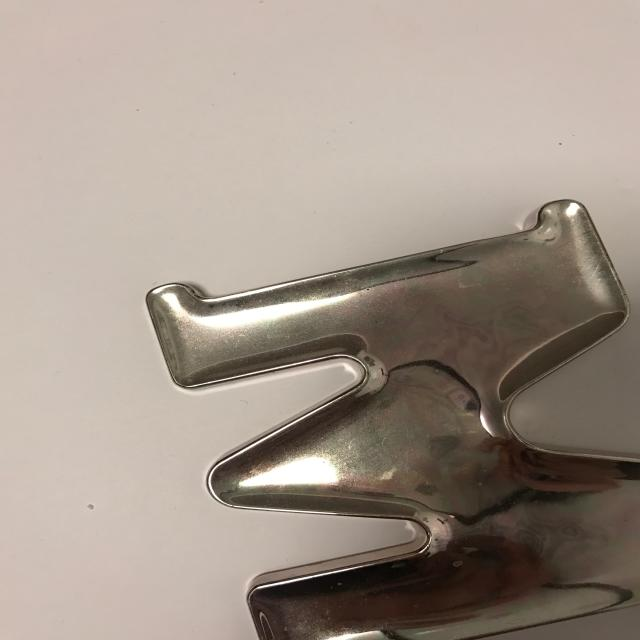metal: (109, 179, 640, 640)
